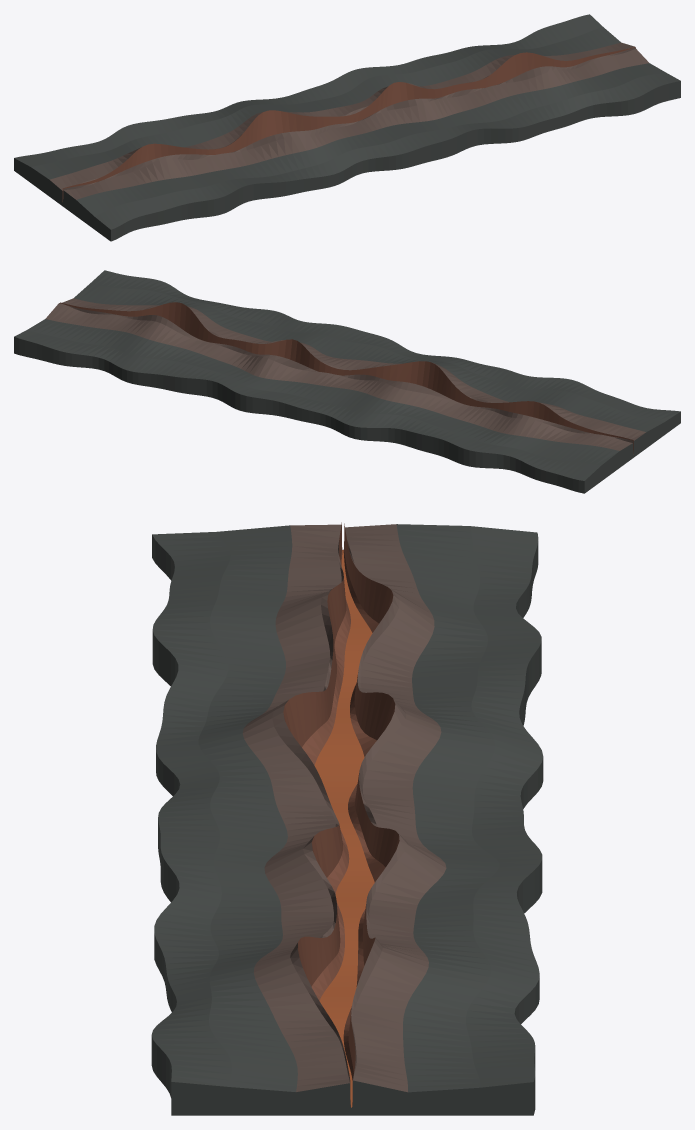
3 renders of one model, top to bottom at view 1: azimuth 30°, elevation 25°; view 2: azimuth 150°, elevation 25°; view 3: azimuth 270°, elevation 25°, orthographic. The views are drawn at different scales.
Parts seen in each view (by area): view 1: one_open_elongated_crack_with_four_linked_low_spatter_vent_l; view 2: one_open_elongated_crack_with_four_linked_low_spatter_vent_l; view 3: one_open_elongated_crack_with_four_linked_low_spatter_vent_l.
Boxes of the visible parts, <box> form: one_open_elongated_crack_with_four_linked_low_spatter_vent_l: <box>14,14,680,241</box>; one_open_elongated_crack_with_four_linked_low_spatter_vent_l: <box>14,270,680,493</box>; one_open_elongated_crack_with_four_linked_low_spatter_vent_l: <box>151,522,543,1115</box>.
Size of the model in its own units: 20 by 1.14 by 5.93.
